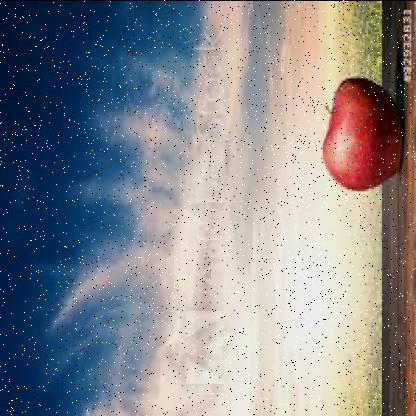apple: (320, 75, 400, 195)
